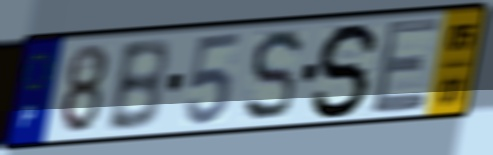5: (183, 29, 246, 129)
8: (59, 41, 111, 136)
B: (103, 35, 171, 135)
E: (369, 14, 444, 119)
S: (309, 19, 384, 121), (241, 26, 305, 126)
